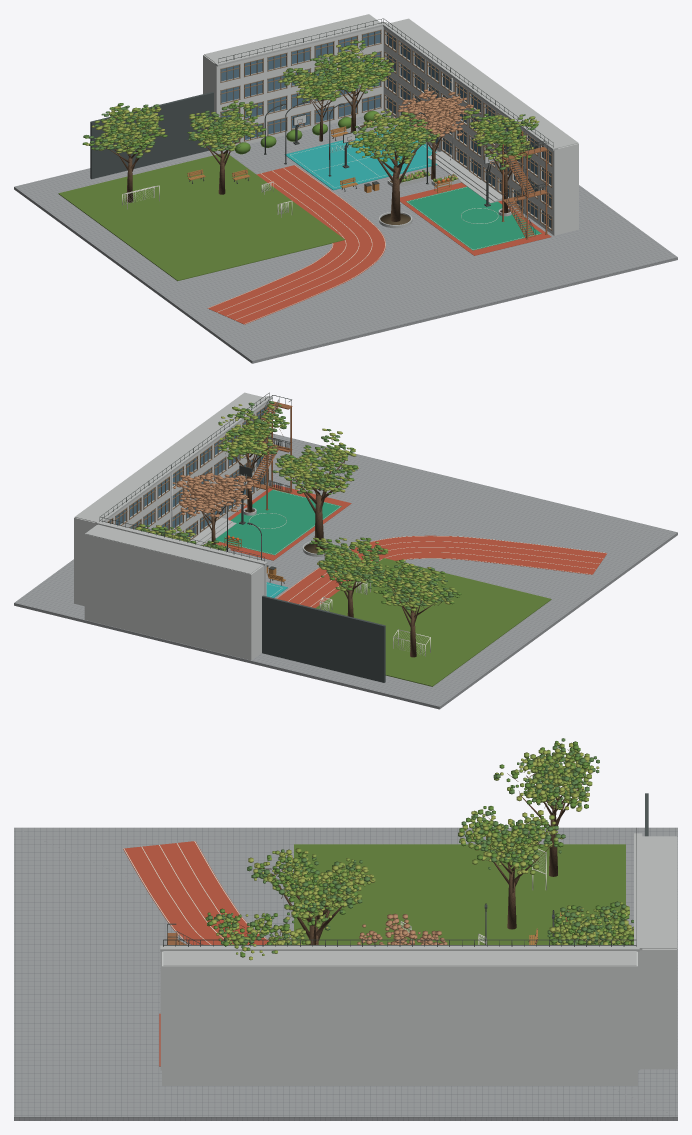
The model's file is campus-courtyard.glb.
3 renders of one model, top to bottom at view 1: azimuth 30°, elevation 25°; view 2: azimuth 150°, elevation 25°; view 3: azimuth 270°, elevation 25°, orthographic. The views are drawn at different scales.
Parts seen in each view (by area): view 1: SITE-PAVERS, LAWN-L, BLD-B-SHELL, TRACK-ARC, BLD-A-SHELL, BACKDROP-WEST-FRAGMENT, COURT-E-IN, COURT-NE, TREE-01, TREE-06, TREE-02, TREE-05 (+6 smaller); view 2: SITE-PAVERS, BLD-A-SHELL, LAWN-L, BLD-B-SHELL, BACKDROP-WEST-FRAGMENT, TRACK-ARC, COURT-E-IN, TREE-01, TREE-06, TREE-02, TREE-04, TREE-05 (+4 smaller); view 3: SITE-PAVERS, BLD-B-SHELL, LAWN-L, BLD-A-SHELL, TRACK-ARC, TREE-01, TREE-02, TREE-06, TREE-05, TREE-07, BLD-B-ROOF-RAIL, TREE-03 (+1 smaller).
Part boxes in pixels (box(x1,y1,x2,y2)): SITE-PAVERS: box(14, 112, 677, 363); LAWN-L: box(58, 153, 344, 281); BLD-B-SHELL: box(383, 18, 578, 235); TRACK-ARC: box(207, 165, 385, 324); BLD-A-SHELL: box(203, 14, 385, 151); BACKDROP-WEST-FRAGMENT: box(90, 92, 213, 179); COURT-E-IN: box(406, 186, 541, 250); COURT-NE: box(284, 127, 437, 190); TREE-01: box(348, 109, 440, 221); TREE-06: box(82, 103, 167, 202); TREE-02: box(187, 100, 266, 194); TREE-05: box(462, 108, 539, 213); SITE-PAVERS: box(14, 433, 677, 709); BLD-A-SHELL: box(84, 520, 267, 660); LAWN-L: box(315, 558, 551, 686); BLD-B-SHELL: box(74, 392, 272, 605); BACKDROP-WEST-FRAGMENT: box(262, 595, 385, 682); TRACK-ARC: box(276, 535, 607, 607); COURT-E-IN: box(215, 489, 341, 555); TREE-01: box(272, 428, 358, 550); TREE-06: box(367, 559, 461, 657); TREE-02: box(309, 537, 388, 617); TREE-04: box(172, 472, 257, 544); TREE-05: box(217, 401, 289, 512); SITE-PAVERS: box(14, 827, 677, 1120); BLD-B-SHELL: box(160, 945, 639, 1085); LAWN-L: box(294, 844, 625, 944); BLD-A-SHELL: box(634, 833, 677, 1069); TRACK-ARC: box(123, 841, 269, 944); TREE-01: box(247, 848, 375, 944); TREE-02: box(458, 806, 565, 929); TREE-06: box(493, 738, 599, 876); TREE-05: box(205, 902, 310, 960); TREE-07: box(553, 901, 633, 944); BLD-B-ROOF-RAIL: box(163, 939, 636, 946); TREE-03: box(547, 919, 633, 944).
Size of the model in its own units: 66 by 15.62 by 64.
25 materials, 2 textured.
